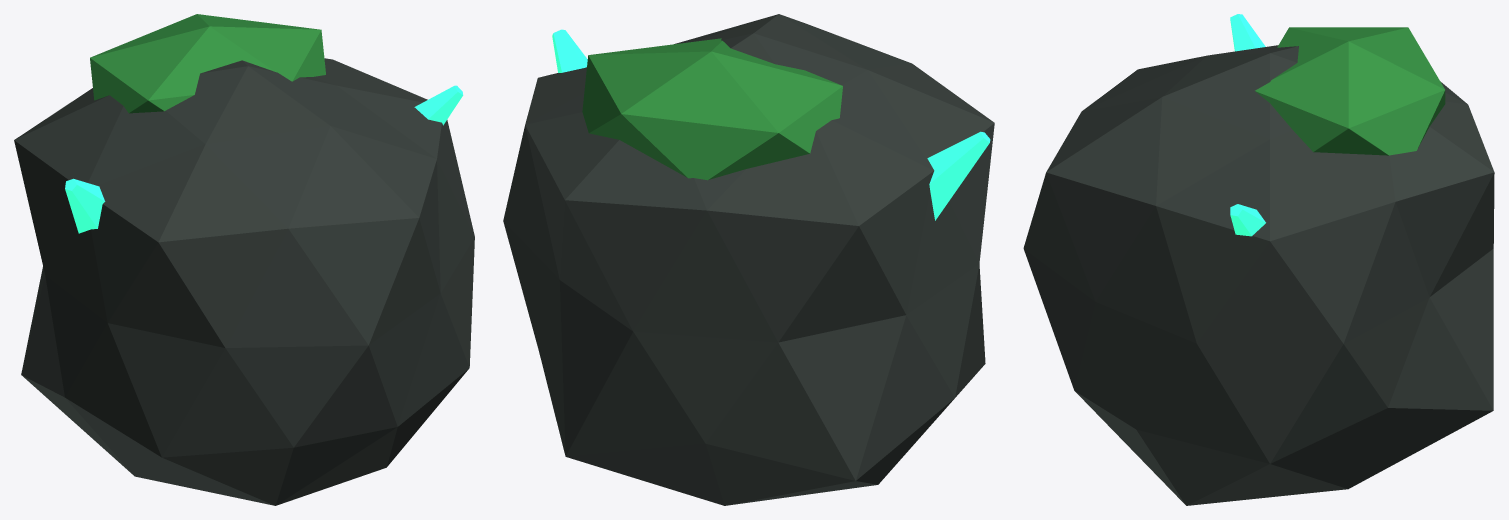
Rendered from EM_Proj_RuneBoulder.glb.
3 renders of one model, left to right at view 1: azimuth 30°, elevation 25°; view 2: azimuth 150°, elevation 25°; view 3: azimuth 270°, elevation 25°, orthographic. The views are drawn at different scales.
Visible parts, largest first — view 1: Proj_RuneBoulder__Core__StoneDark, Proj_RuneBoulder__Core__MossLeaf, Proj_RuneBoulder__Core__JadeGlow; view 2: Proj_RuneBoulder__Core__StoneDark, Proj_RuneBoulder__Core__MossLeaf, Proj_RuneBoulder__Core__JadeGlow; view 3: Proj_RuneBoulder__Core__StoneDark, Proj_RuneBoulder__Core__MossLeaf, Proj_RuneBoulder__Core__JadeGlow.
Part boxes in pixels (x1,y1,x2,y2): Proj_RuneBoulder__Core__StoneDark: [14, 58, 474, 505]; Proj_RuneBoulder__Core__MossLeaf: [90, 14, 325, 113]; Proj_RuneBoulder__Core__JadeGlow: [65, 85, 463, 233]; Proj_RuneBoulder__Core__StoneDark: [503, 14, 994, 505]; Proj_RuneBoulder__Core__MossLeaf: [582, 38, 842, 180]; Proj_RuneBoulder__Core__JadeGlow: [552, 29, 990, 220]; Proj_RuneBoulder__Core__StoneDark: [1023, 45, 1494, 505]; Proj_RuneBoulder__Core__MossLeaf: [1255, 27, 1445, 155]; Proj_RuneBoulder__Core__JadeGlow: [1230, 14, 1265, 236].
Size of the model in its own units: 2.99 by 3 by 3.
